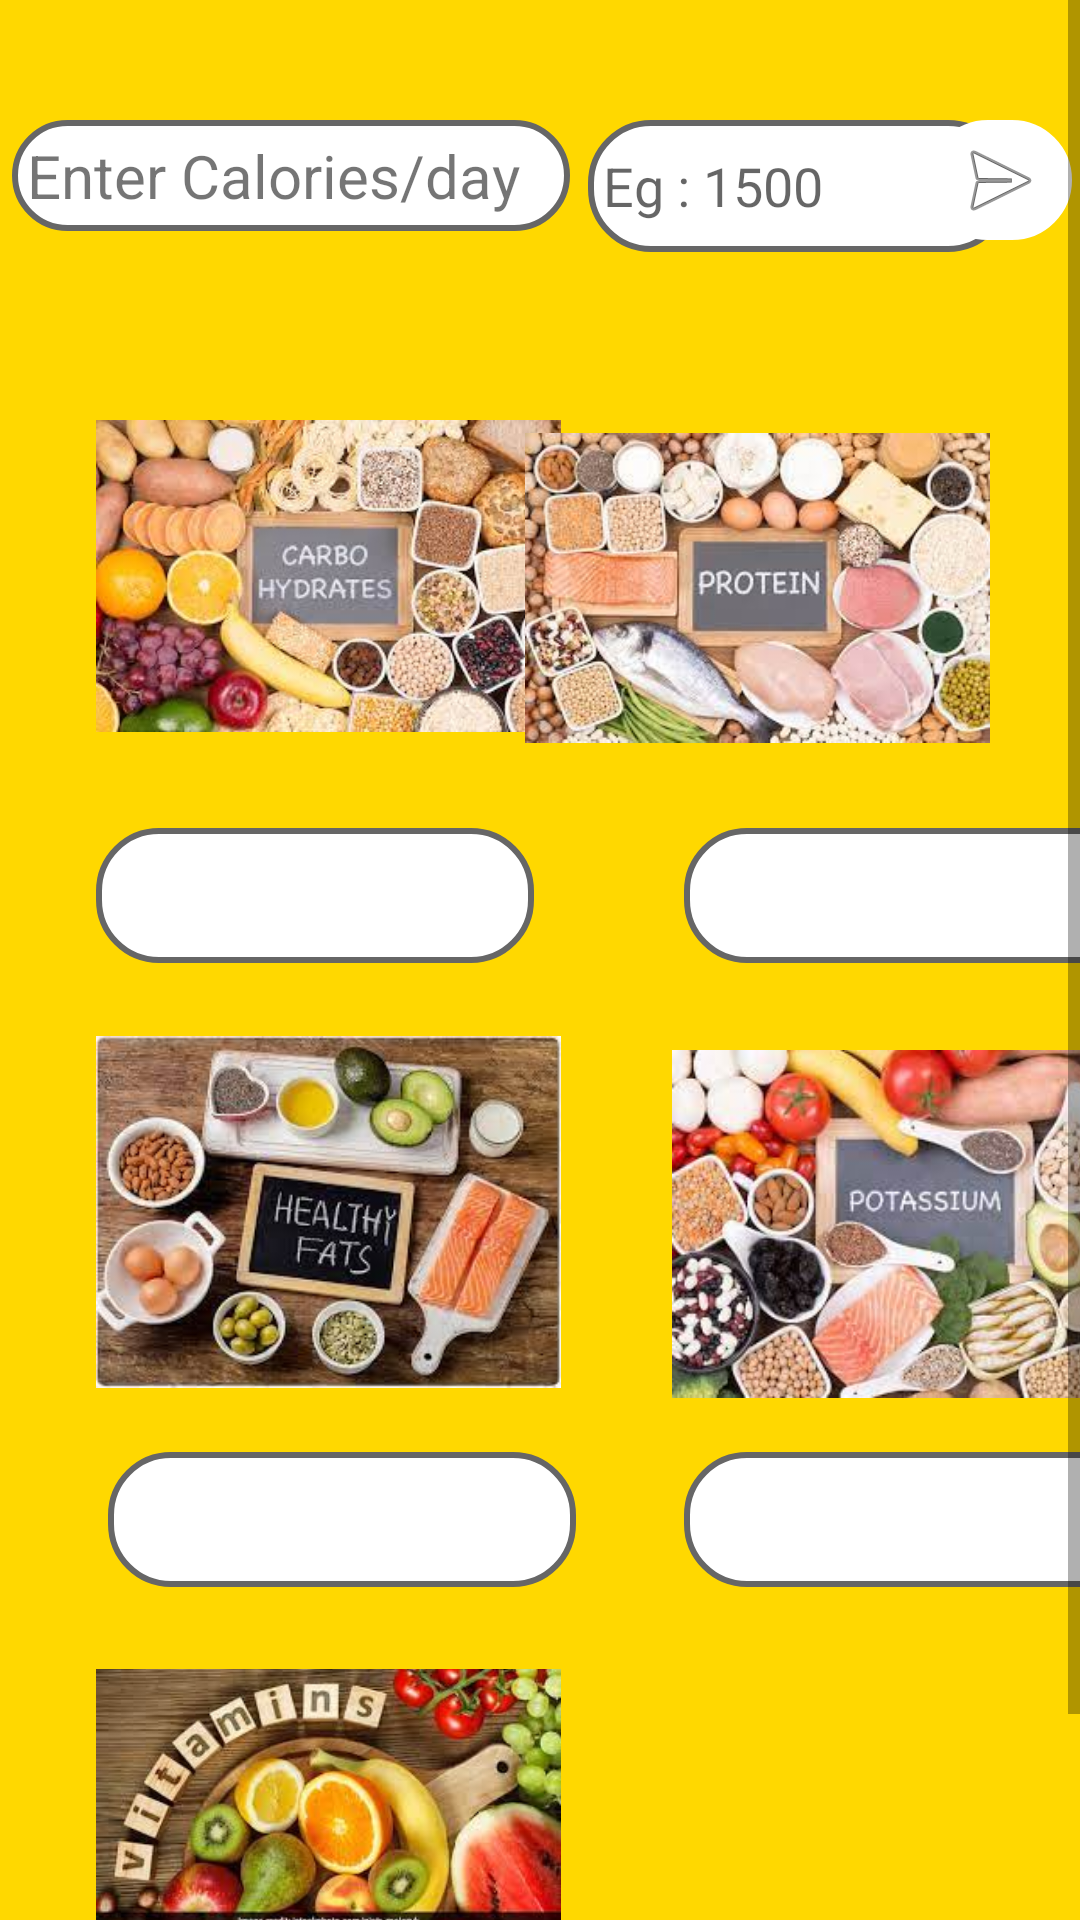

Icons on this 1080*1920 Android screen, each with the point to tap as (x=x, y=y):
send: (x=1000, y=180)
